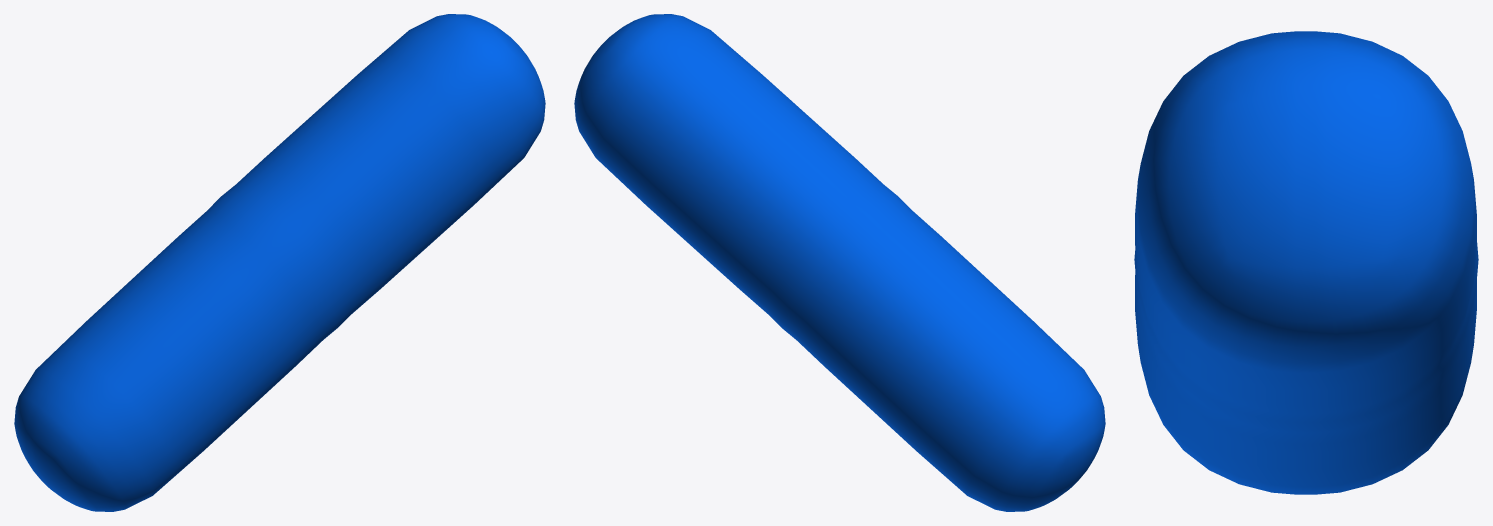
3 views of the same model, side by side, from view 1: azimuth 30°, elevation 25°; view 2: azimuth 150°, elevation 25°; view 3: azimuth 270°, elevation 25° (orthographic). The views are drawn at different scales.
Parts seen in each view (by area): view 1: lv_3_1; view 2: lv_3_1; view 3: lv_3_1.
Boxes of the visible parts, <box> form: lv_3_1: <box>14,14,545,511</box>; lv_3_1: <box>574,14,1105,511</box>; lv_3_1: <box>1134,31,1478,494</box>.
Bounding box in the file's own units: 39.26 × 29.21 × 11.61.
